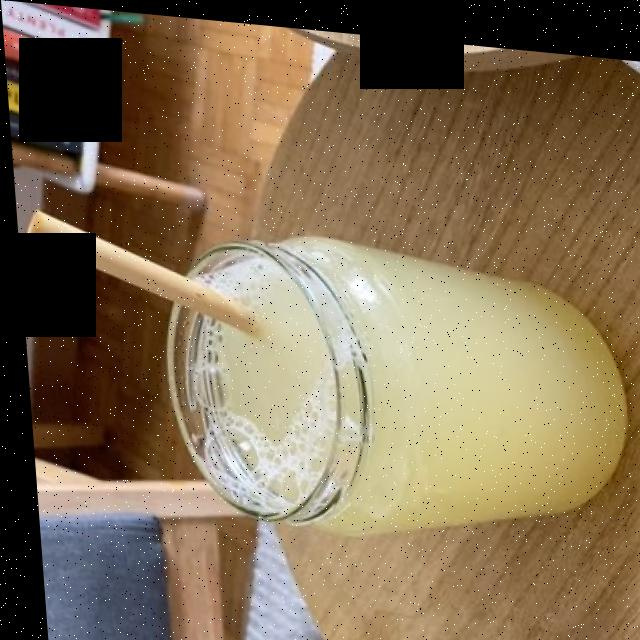water-with-lemon-juice: (202, 247, 612, 522)
